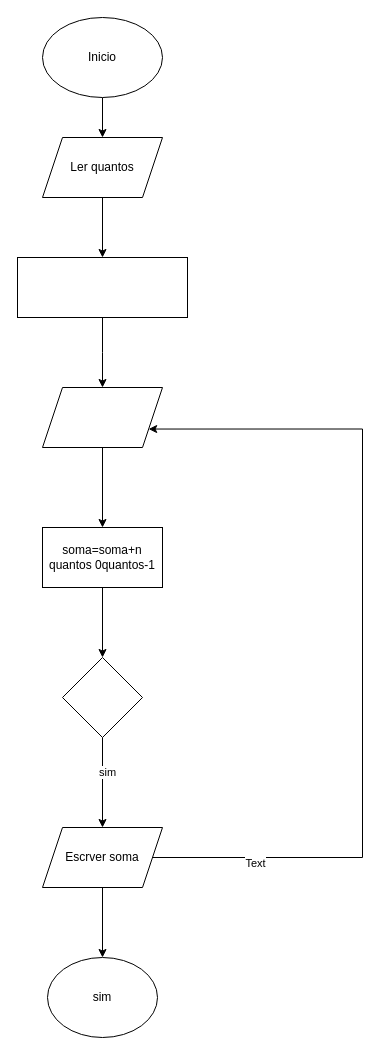
The diagram is 388 pixels wide and 1055 high, and some of its shapes have lost their labels. The shapes that lost their labels are listed below. From the top down, each one's centre as x and y in pixels, then its label:
(102,287): soma=0
(102,417): Ler n
(102,697): quantos=0
